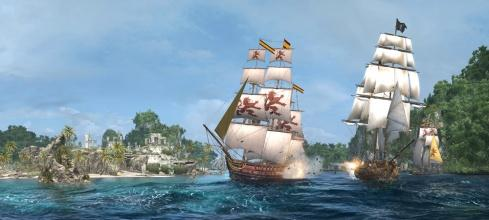fanchuan: (207, 36, 331, 187), (335, 23, 425, 184)
